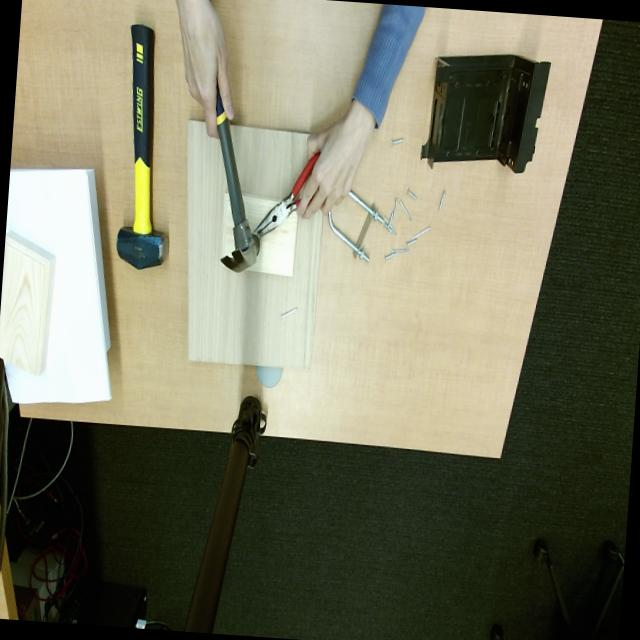hammer: (116, 24, 168, 270), (215, 88, 260, 272)
pliers: (255, 153, 319, 238)
